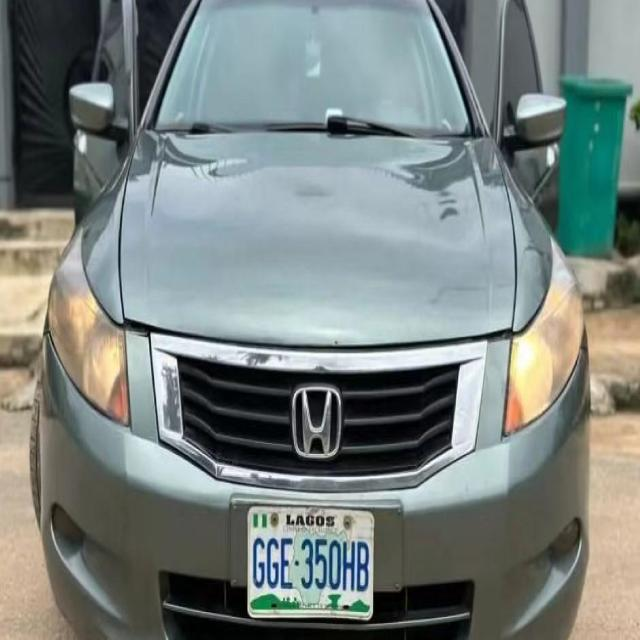Nigerian License Plate - vdataset benjamin-daria: (244, 502, 377, 626)
